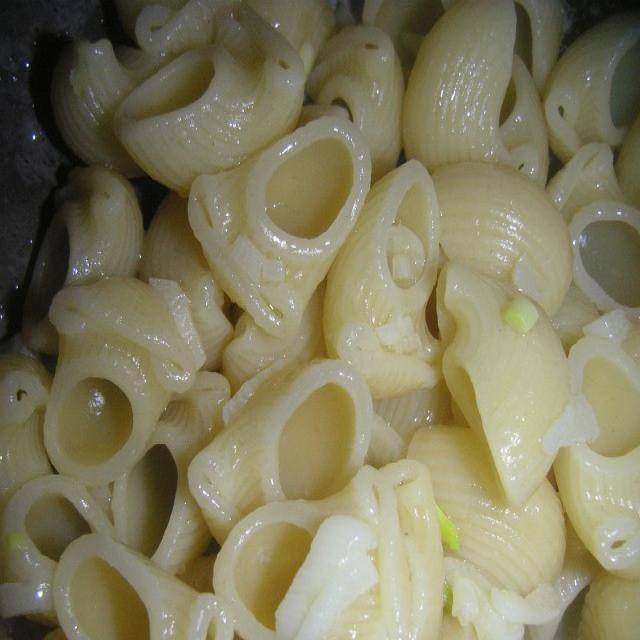Oil pasta: (34, 23, 640, 631)
